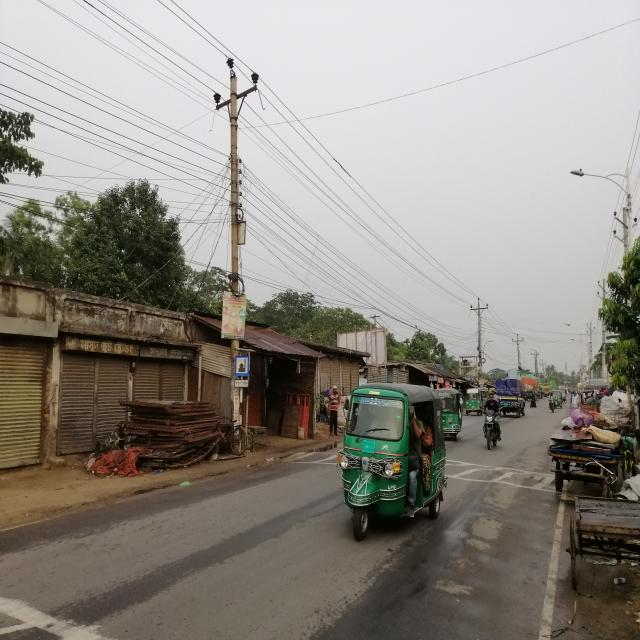CNG: (327, 372, 468, 553), (419, 378, 473, 453)
Motorbike: (470, 400, 515, 466)
Van: (551, 478, 640, 620)
